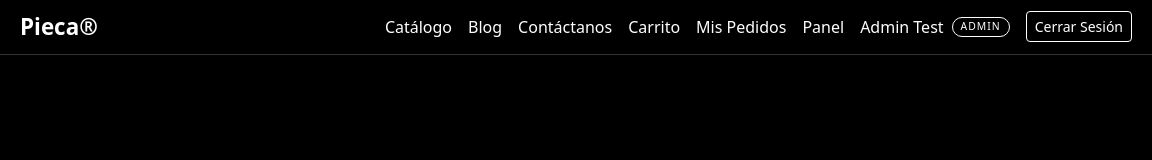
Test: Header.jsx › logout limpia el token y vuelve al estado anónimo
This screenshot has width=1152, height=160.
Click the button "Cerrar Sesión" at x=1079, y=27, box [1026,11,1132,42]
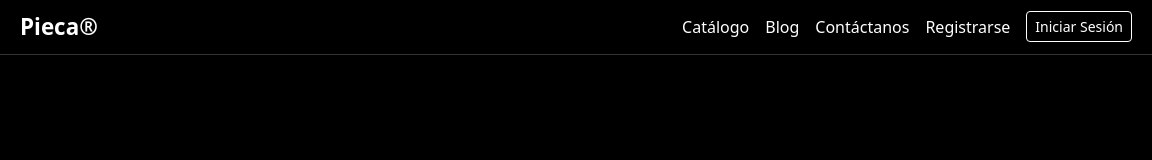
Expected: the text "Registrarse" is shown, [925,15,1010,39]
